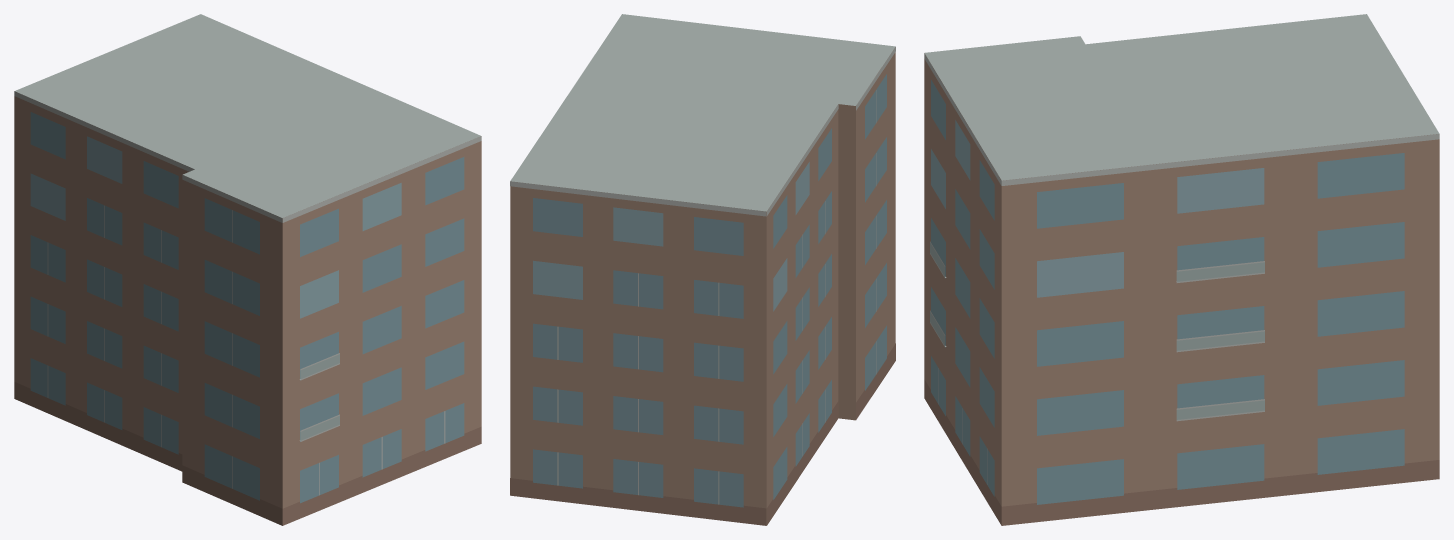
Rendered from survey-upis-32724637.glb.
3 renders of one model, left to right at view 1: azimuth 30°, elevation 25°; view 2: azimuth 150°, elevation 25°; view 3: azimuth 270°, elevation 25°, orthographic. The views are drawn at different scales.
Visible parts, largest first — view 1: survey-upis-32724637.tmp; view 2: survey-upis-32724637.tmp; view 3: survey-upis-32724637.tmp.
Part boxes in pixels (x1,y1,x2,y2): survey-upis-32724637.tmp: (14,14,481,525); survey-upis-32724637.tmp: (510,14,895,525); survey-upis-32724637.tmp: (924,14,1439,525).
Size of the model in its own units: 15.79 by 15.25 by 20.64.
